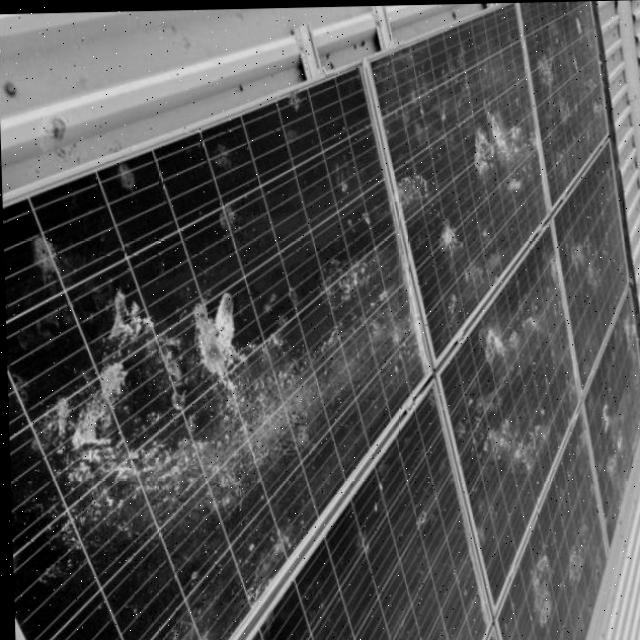Anomaly Solar Panel: (0, 64, 431, 640), (414, 226, 627, 610), (362, 1, 589, 358), (242, 380, 491, 640), (546, 144, 640, 385)
Surface Contaminant: (22, 289, 282, 518), (450, 240, 608, 481), (148, 490, 307, 640), (424, 202, 519, 344), (531, 14, 611, 176), (460, 75, 545, 200), (380, 44, 474, 138), (592, 364, 640, 488), (512, 543, 573, 631), (564, 223, 623, 295), (20, 220, 71, 290), (392, 158, 444, 210), (560, 514, 599, 581), (403, 487, 439, 541), (107, 152, 145, 197), (211, 192, 245, 236), (435, 621, 471, 640)
